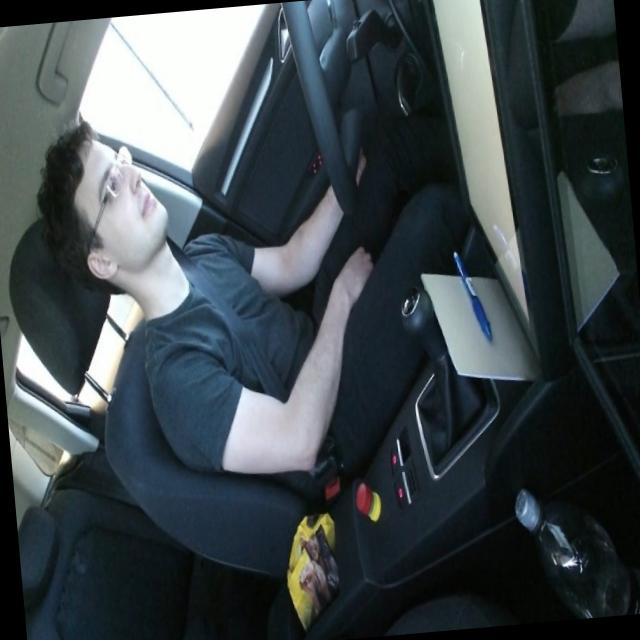pen: (451, 244, 493, 344)
